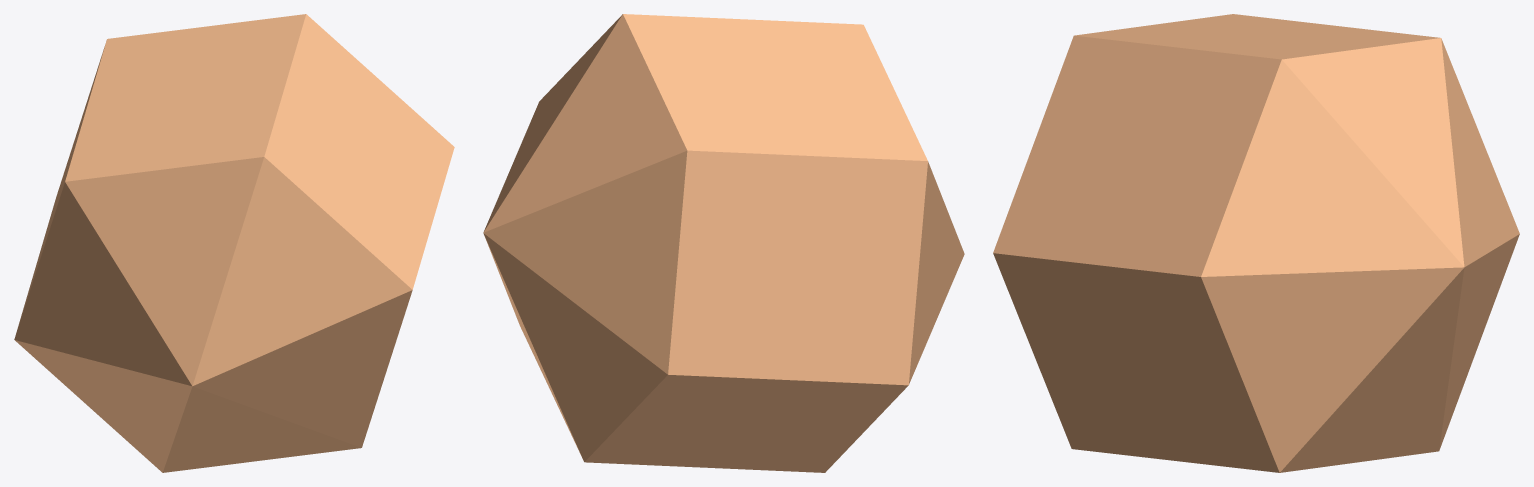
File: M_RiverFoam_low.FBX
3 renders of one model, left to right at view 1: azimuth 30°, elevation 25°; view 2: azimuth 150°, elevation 25°; view 3: azimuth 270°, elevation 25°, orthographic. The views are drawn at different scales.
Visible parts, largest first — view 1: Sphere003; view 2: Sphere003; view 3: Sphere003.
Part boxes in pixels (box(x1,y1,x2,y2)): Sphere003: box(14, 14, 454, 472); Sphere003: box(483, 14, 964, 472); Sphere003: box(993, 14, 1519, 472).
Size of the model in its own units: 2.03 by 2 by 2.07.
